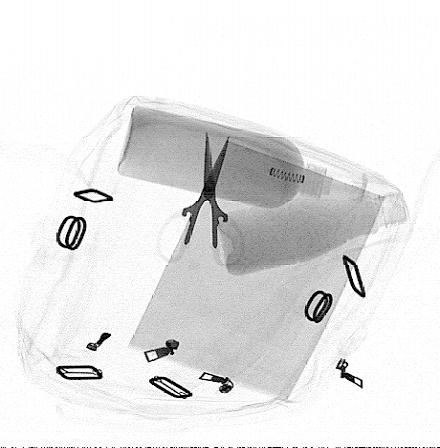Scissors: (165, 129, 245, 269)
